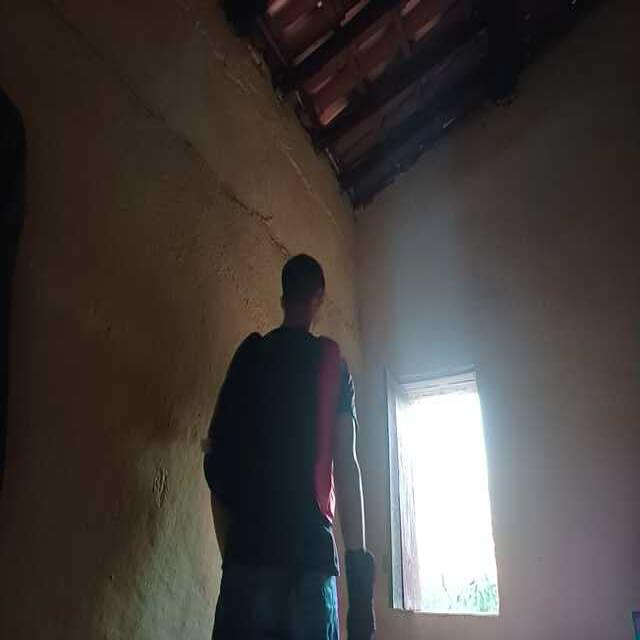colete: (219, 326, 339, 530)
pessoa: (205, 255, 380, 640)
